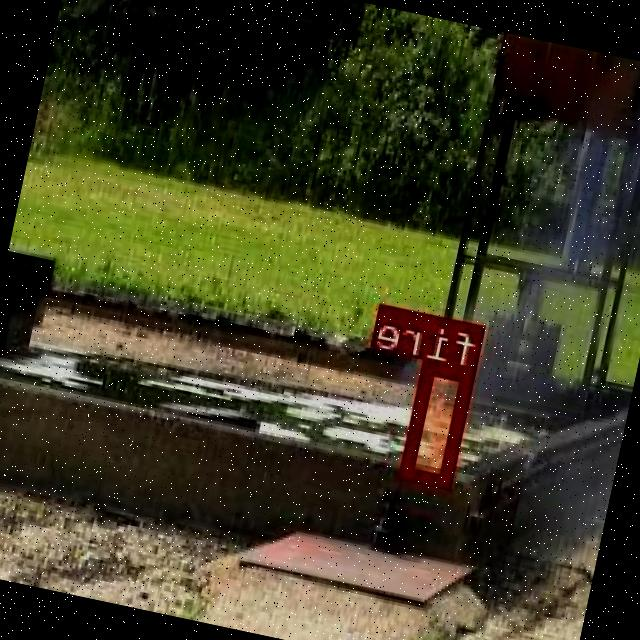fire: (401, 359, 476, 486)
